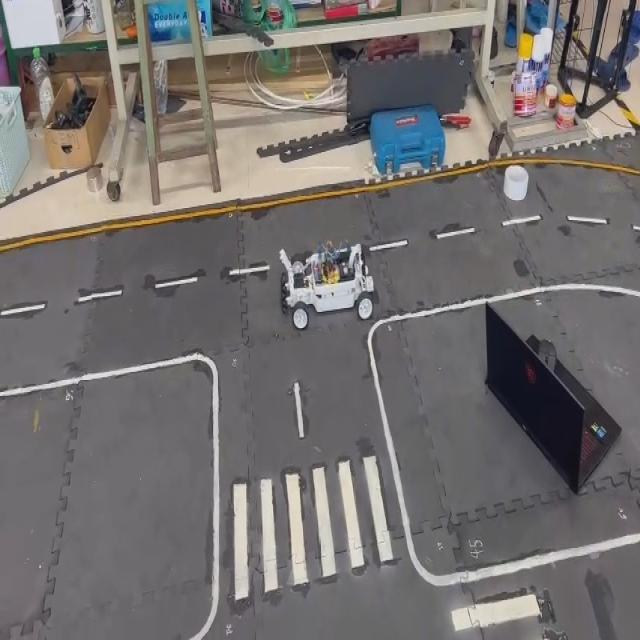SiCo-CAR: (278, 237, 375, 331)
